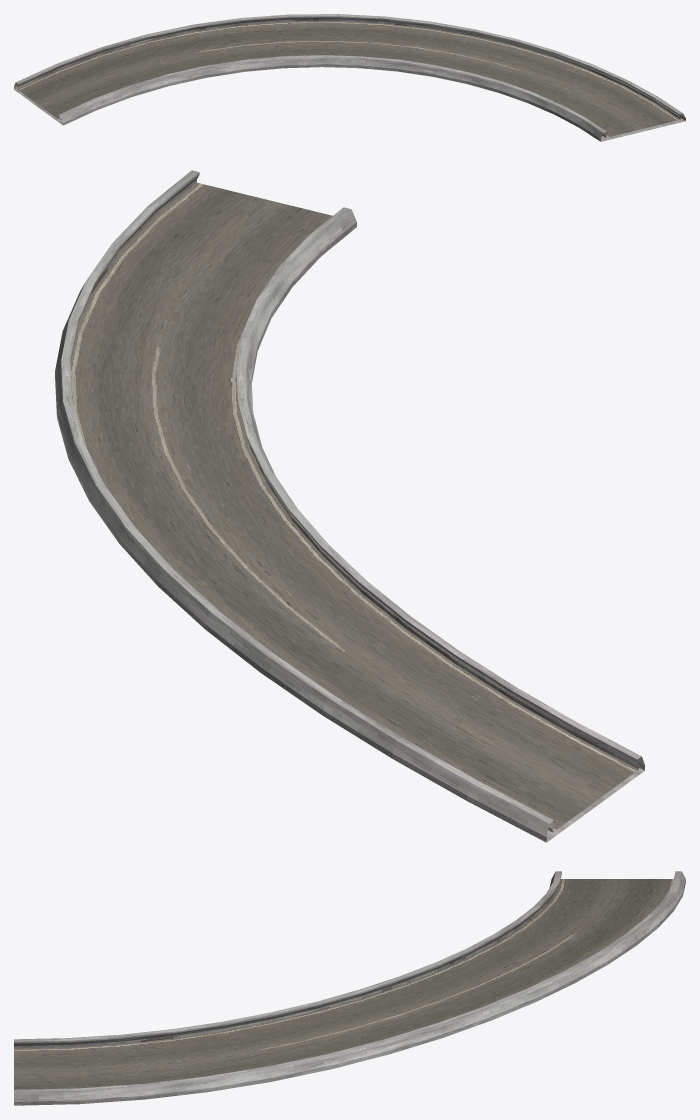
Rendered from turn-left5x5.glb.
3 views of the same model, one above another, from view 1: azimuth 30°, elevation 25°; view 2: azimuth 150°, elevation 25°; view 3: azimuth 270°, elevation 25° (orthographic). The views are drawn at different scales.
Visible parts, largest first — view 1: road-Turn-Flat-BiSlopeDown-Down2-Left-Size5; view 2: road-Turn-Flat-BiSlopeDown-Down2-Left-Size5; view 3: road-Turn-Flat-BiSlopeDown-Down2-Left-Size5.
Boxes of the visible parts, x1=… form: road-Turn-Flat-BiSlopeDown-Down2-Left-Size5: x1=14, y1=14, x2=685, y2=141; road-Turn-Flat-BiSlopeDown-Down2-Left-Size5: x1=55, y1=170, x2=644, y2=842; road-Turn-Flat-BiSlopeDown-Down2-Left-Size5: x1=14, y1=871, x2=685, y2=1105.
Bounding box in the file's own units: 5 × 0.6164 × 5.
2 materials, 2 textured.
